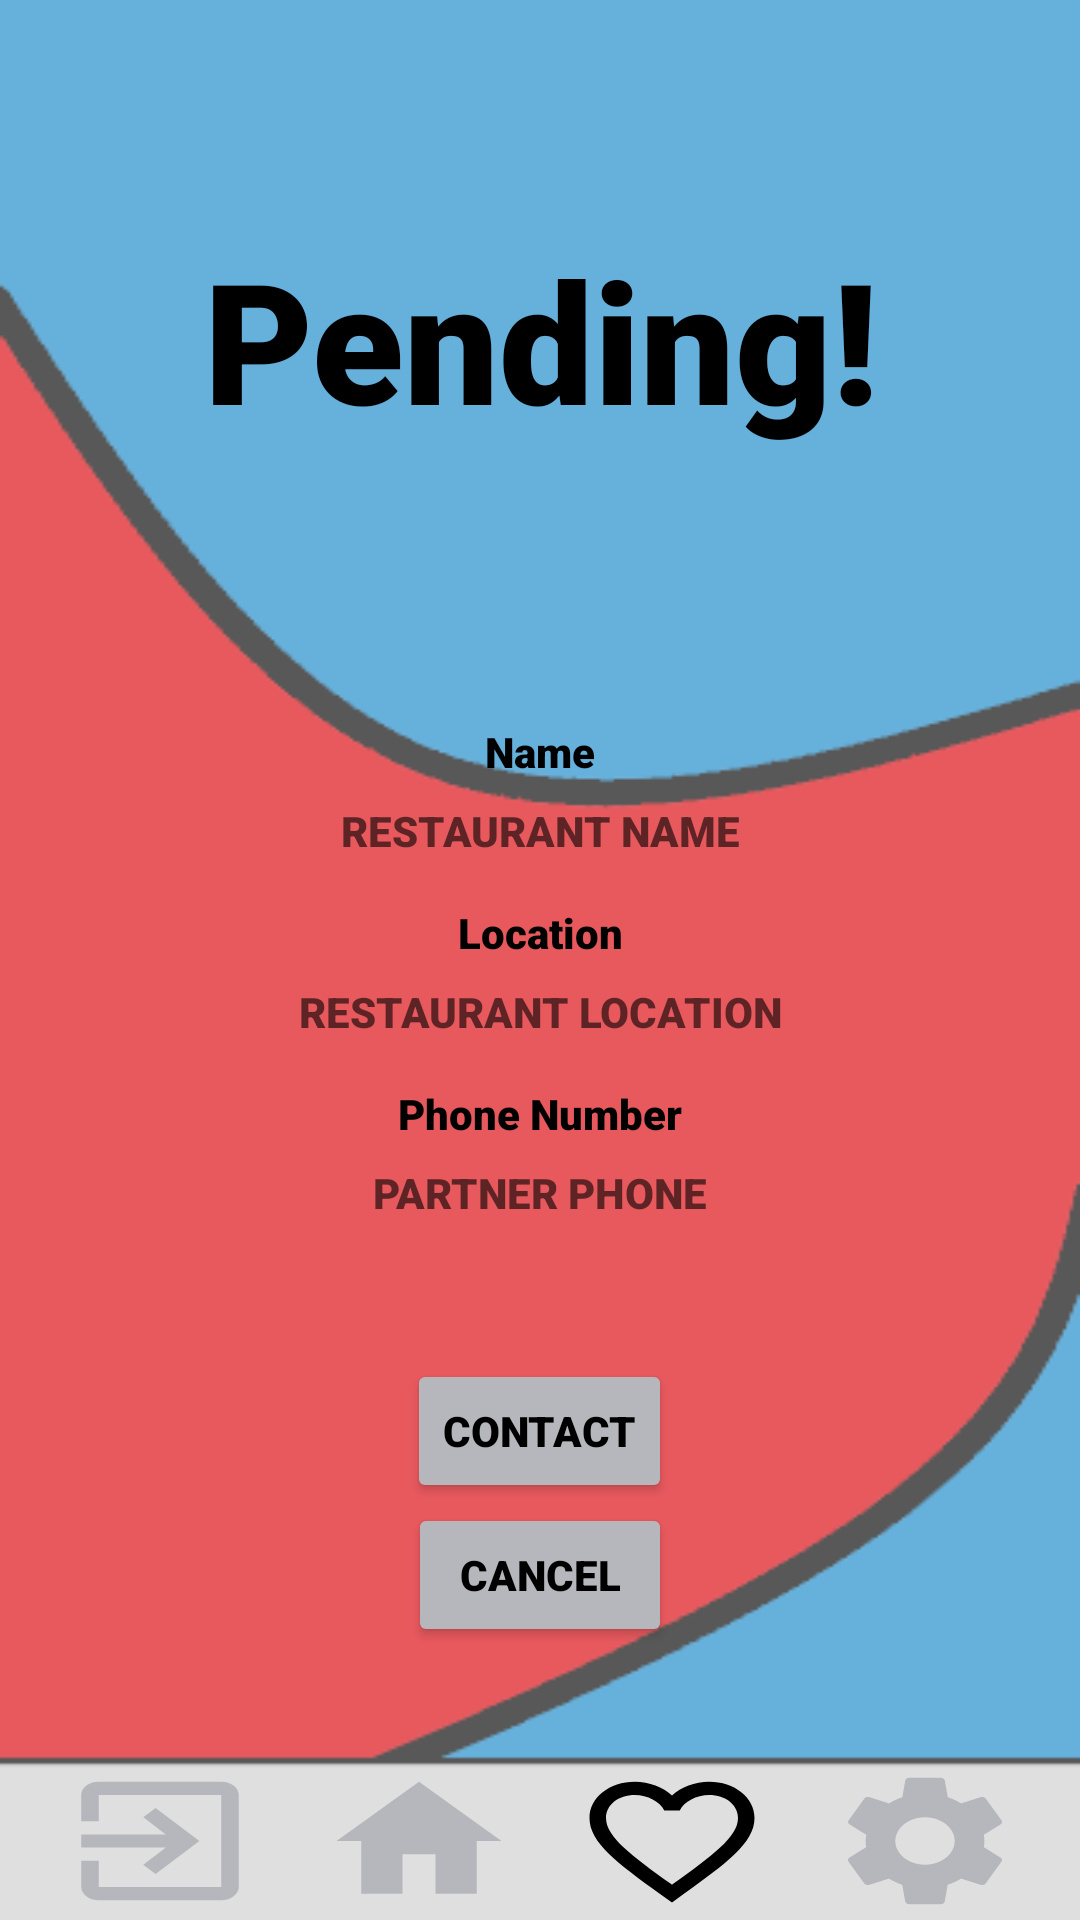

Point at icon controls on the screen. Image size 1080 x 1920, points as (x=x, y=y).
exit to app: (x=160, y=1841)
favorite border: (x=672, y=1841)
home: (x=419, y=1841)
settings: (x=925, y=1841)
